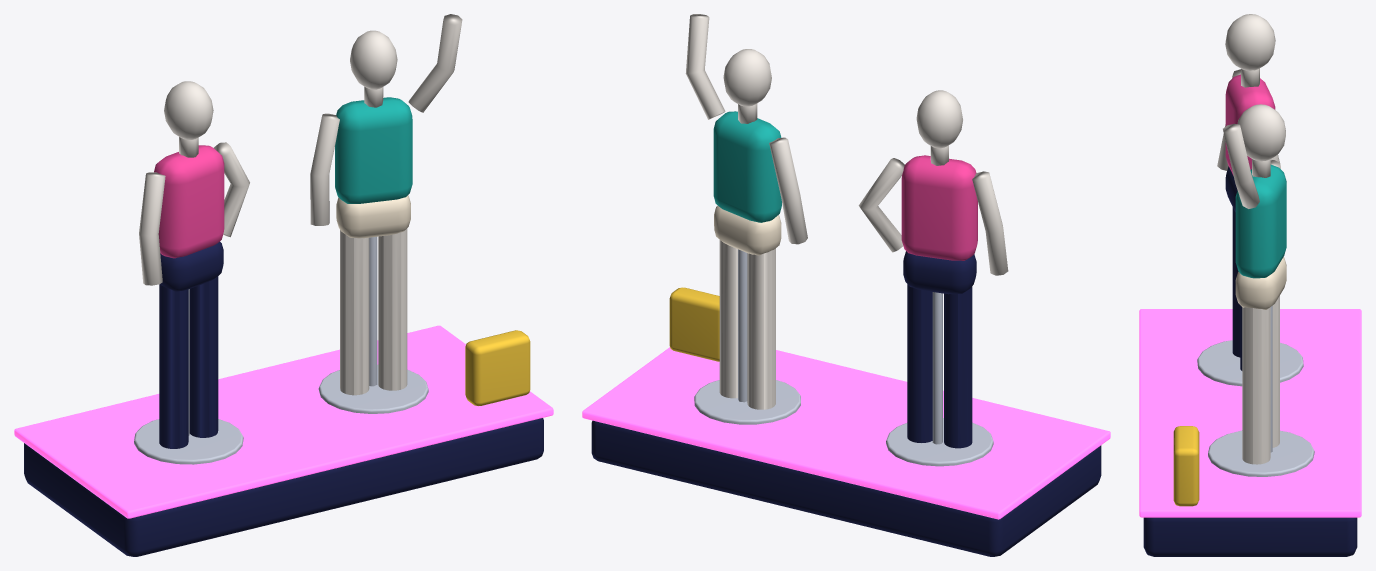
The model's file is mall_mannequins.glb.
The picture shows the model from 3 angles, left to right: view 1: azimuth 30°, elevation 25°; view 2: azimuth 150°, elevation 25°; view 3: azimuth 270°, elevation 25°; orthographic projection. The views are drawn at different scales.
Parts seen in each view (by area): view 1: Mannequins; view 2: Mannequins; view 3: Mannequins.
Boxes of the visible parts, x1,y1,x2,y2 form: Mannequins: (14, 14, 553, 556); Mannequins: (582, 14, 1110, 556); Mannequins: (1139, 14, 1361, 556).
Bounding box in the file's own units: 2.24 × 2.12 × 1.04.
